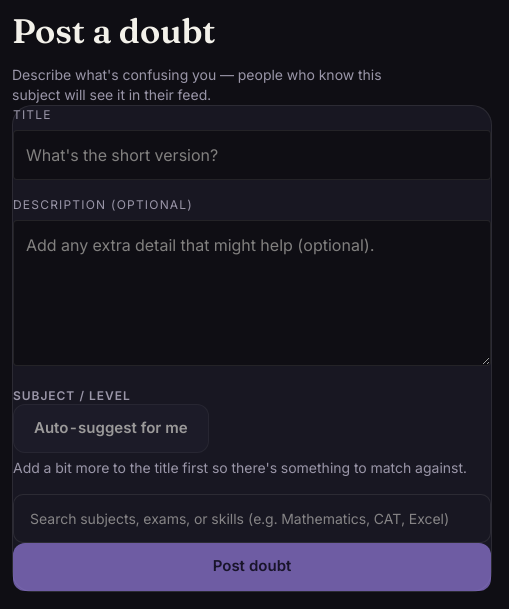
Test: NewDoubtPage › disables the Auto-suggest button until the title has a minimum length
Expected: the button "Post doubt" is shown, [13,543,491,591]
Expected: the button with test id "auto-suggest-button" is disabled, [13,404,209,453]
Type "Hi" into the field labelled "Title".
click(252, 155); type("Hi")  # box [13,130,491,180]
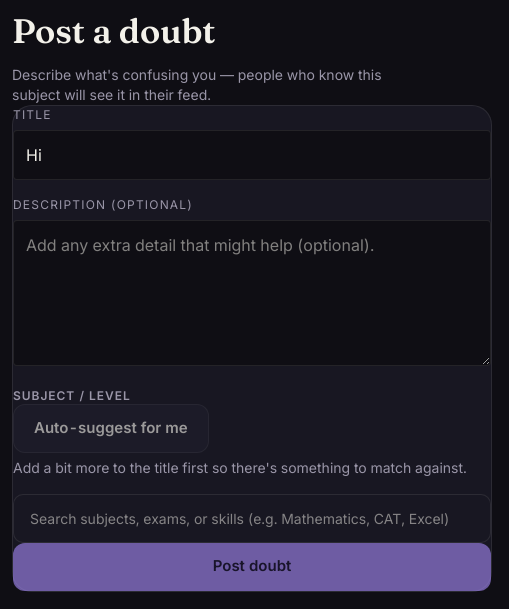
Expected: the button with test id "auto-suggest-button" is disabled, [13,404,209,453]
Replace the text in the field labelled "Title" with "Help with limits" at (252, 155), box [13,130,491,180]
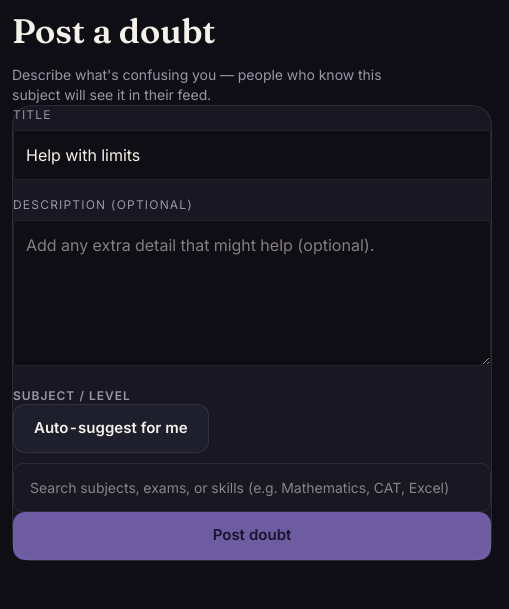
Expected: the button with test id "auto-suggest-button" is enabled, [13,404,209,453]
